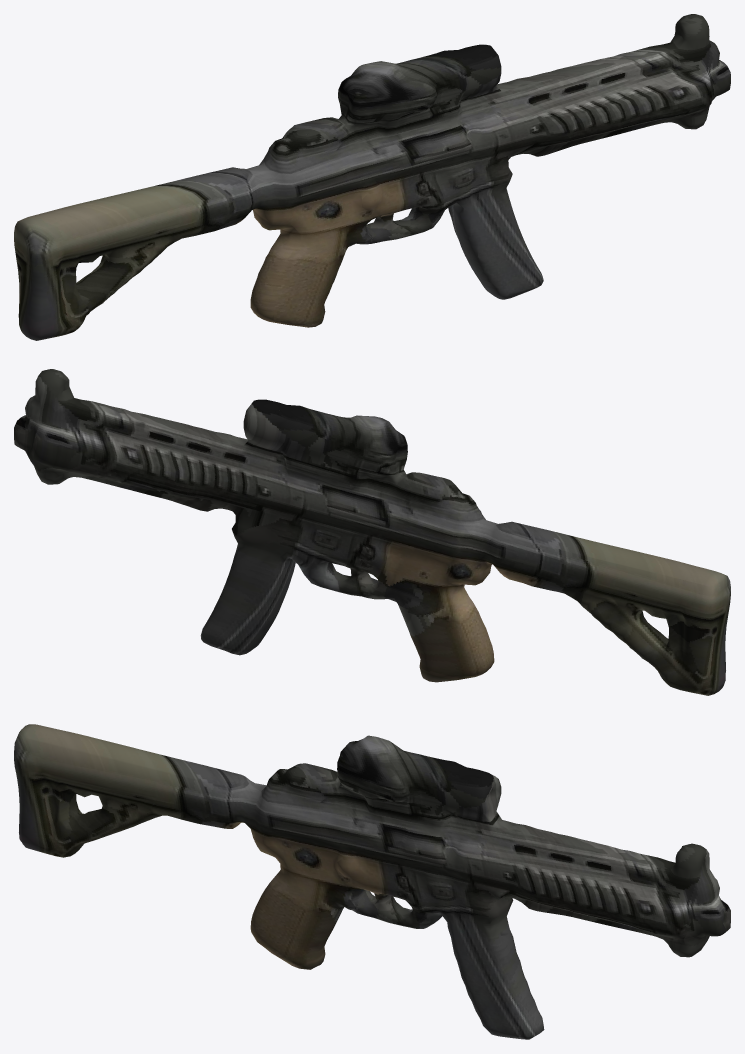
File: smg.glb
3 renders of one model, top to bottom at view 1: azimuth 30°, elevation 25°; view 2: azimuth 150°, elevation 25°; view 3: azimuth 330°, elevation 25°, orthographic.
Visible parts, largest first — view 1: geometry_0; view 2: geometry_0; view 3: geometry_0.
Boxes of the visible parts, box(x1,y1,x2,y2) form: geometry_0: box(14, 14, 730, 340); geometry_0: box(14, 369, 730, 695); geometry_0: box(14, 724, 730, 1039).
Size of the model in its own units: 0.7001 by 0.247 by 0.0615.
Materials: 1 (1 with a texture image).
